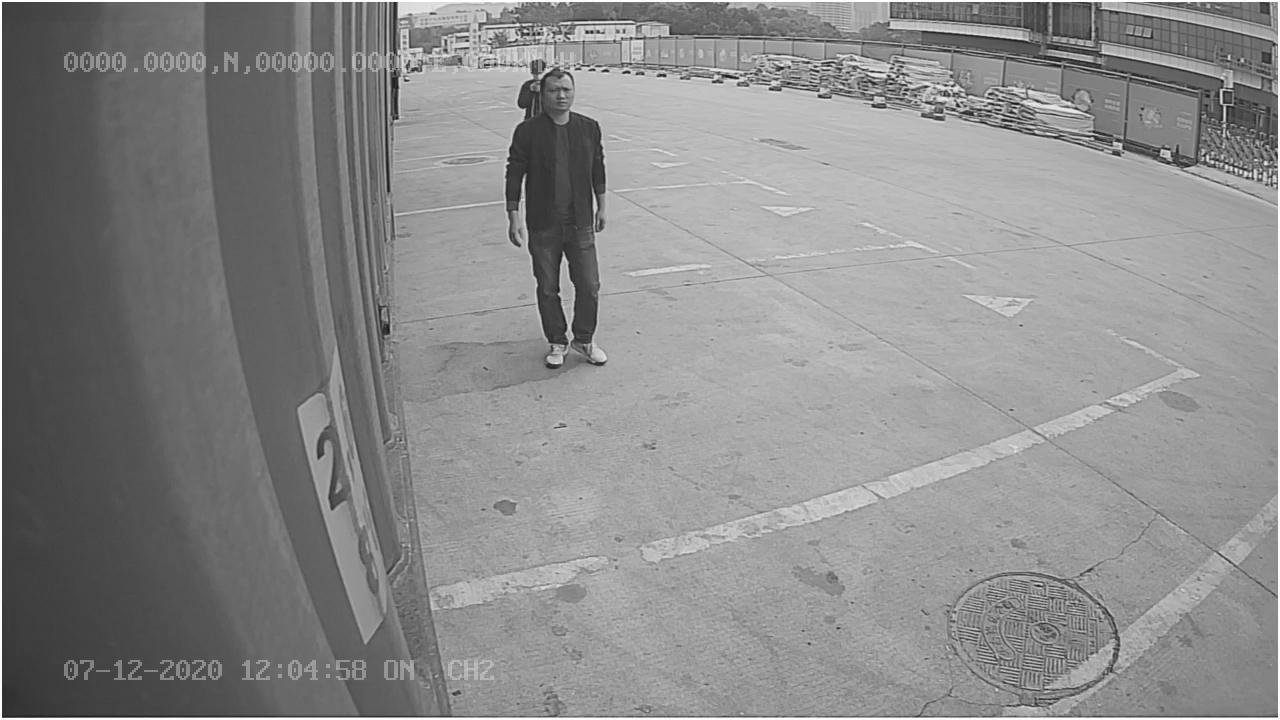person: (505, 73, 615, 369)
